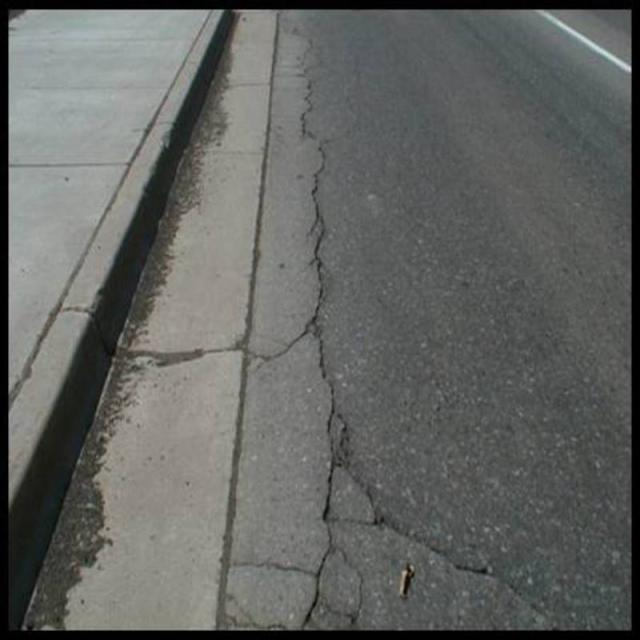Pothole: (9, 7, 547, 631)
